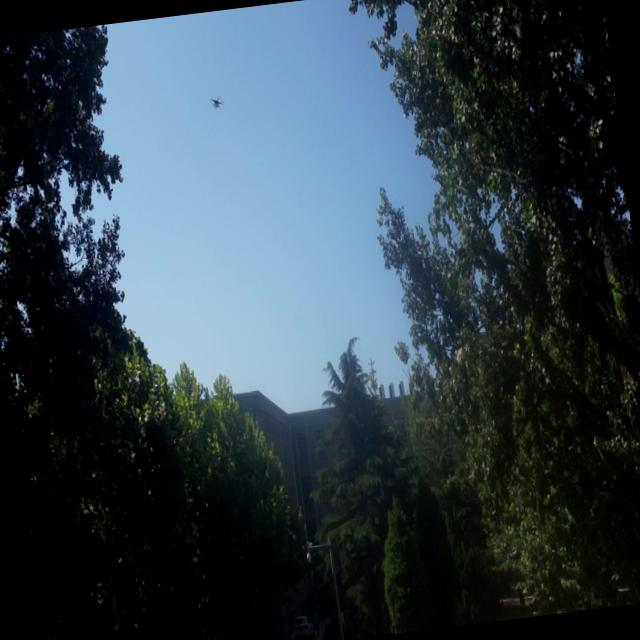drone: (206, 92, 226, 113)
